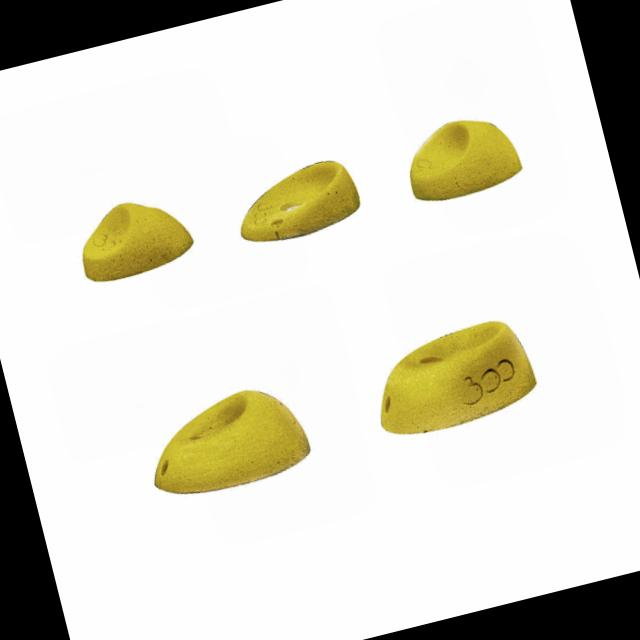Hold: (132, 373, 318, 508), (368, 318, 546, 436), (227, 146, 371, 252), (68, 183, 206, 288), (396, 103, 531, 208)
